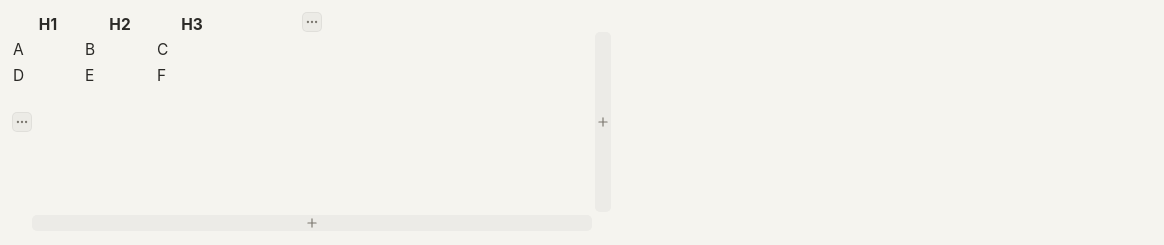
it: TableControlsOverlay › actions: 在上方插入行
Expected: the button named "在表格右侧新增列" is shown, [595,32,611,212]
Click the button named "当前行操作".
click(22, 122)  # box [12,112,32,132]
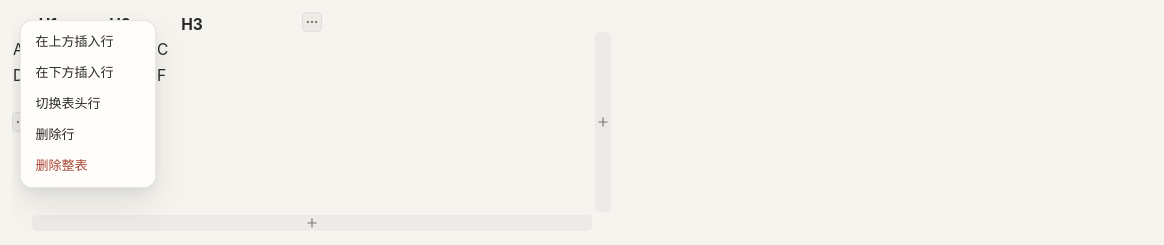
Expected: the element with class "table-action-menu" is shown, [20,20,156,188]
Expected: the button "在上方插入行" is shown
Click the button "在上方插入行".
click(88, 42)  # box [27,27,149,58]
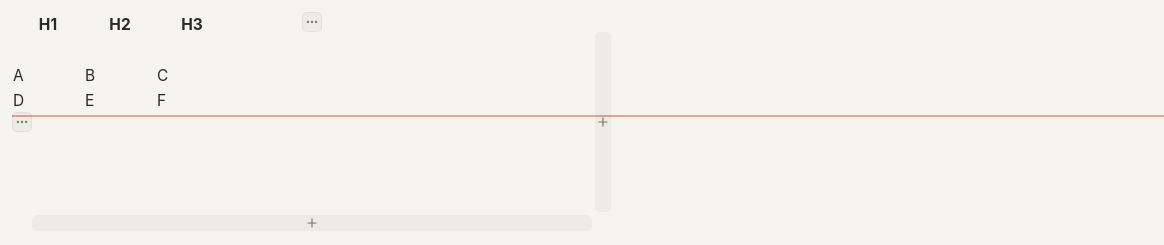
Expected: the element with class "table-action-menu" is gone
